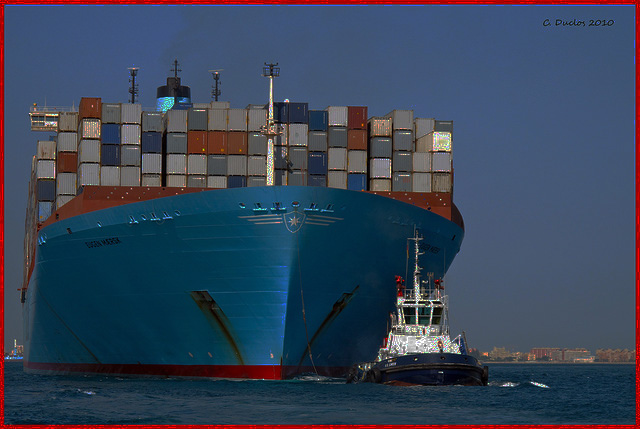container_ship: (23, 59, 464, 384)
tug_boat: (365, 229, 492, 389)
